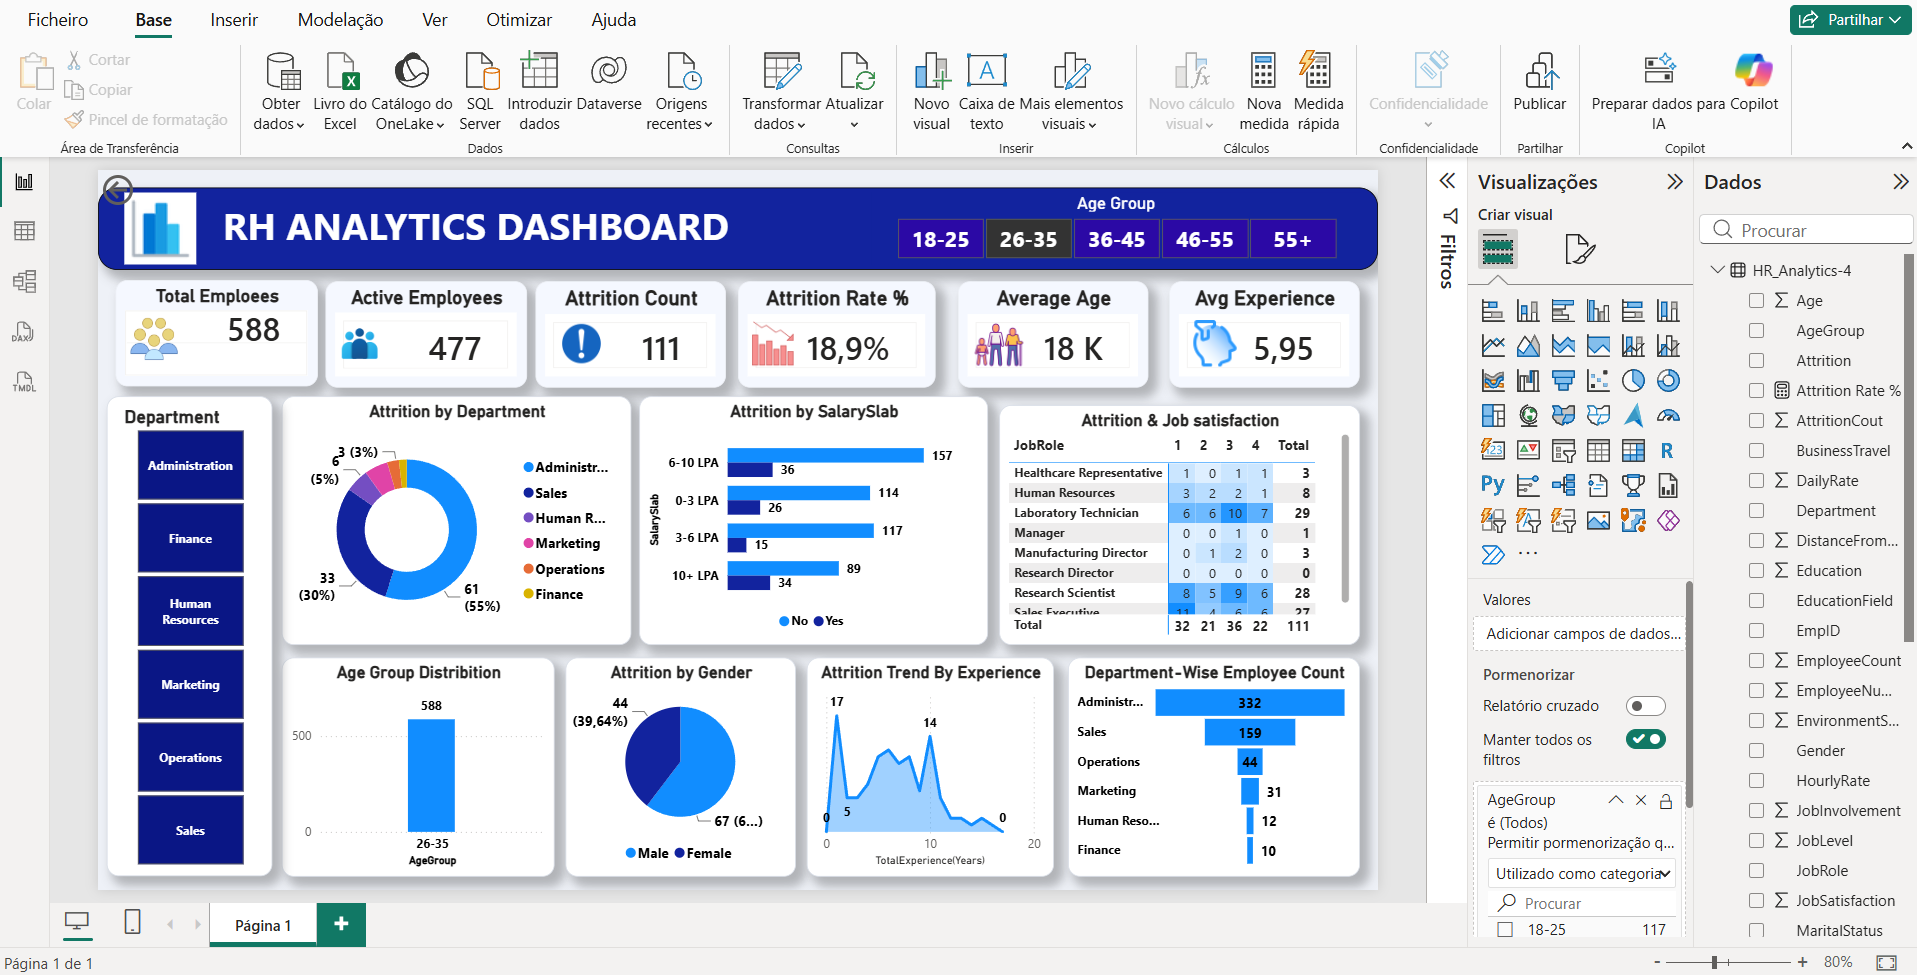

This screenshot's page, from the dashboard's own definition file:
{"tool":"powerbi","page":{"name":"Página 1","canvas":[1280,720],"ordinal":0},"visuals":[{"type":"textbox","box":[0,18.1,1280,82],"z":0},{"type":"cardVisual","title":"Total  Emploees","fields":{"Data":["CountNonNull(HR_Analytics-4.EmpID)"]},"box":[18.1,111,201.5,106.2],"z":1000},{"type":"cardVisual","title":"Active  Employees","fields":{"Data":["CountNonNull(HR_Analytics-4.EmployeeCount)"]},"box":[228,111,201.5,106.2],"z":2000},{"type":"cardVisual","title":"Attrition Count","fields":{"Data":["Sum(HR_Analytics-4.AttritionCout)"]},"box":[437.9,111,190.6,106.2],"z":3000},{"type":"cardVisual","title":"Attrition Rate %","fields":{"Data":["HR_Analytics-4.Attrition Rate %"]},"box":[640.6,111,197.9,106.2],"z":4000},{"type":"cardVisual","title":"Average Age","fields":{"Data":["Sum(HR_Analytics-4.Age)"]},"box":[860.2,111,190.6,106.2],"z":5000},{"type":"cardVisual","title":"Avg Experience","fields":{"Data":["Avg(HR_Analytics-4.YearsatCompany)"]},"box":[1071.3,111,190.6,106.2],"z":6000},{"type":"image","box":[36.2,149.6,37.4,47.1],"z":7000},{"type":"image","box":[241.3,149.6,41,47.1],"z":8000},{"type":"image","box":[456,149.6,54.3,47.1],"z":9000},{"type":"image","box":[651.5,149.6,47.1,47.1],"z":10000},{"type":"image","box":[874.7,149.6,51.9,49.5],"z":11000},{"type":"image","box":[1084.6,149.6,63.9,49.5],"z":12000},{"type":"image","box":[18.1,22.9,89.3,72.4],"z":13000},{"type":"donutChart","title":" Attrition by Department","fields":{"Category":["HR_Analytics-4.Department"],"Y":["Sum(HR_Analytics-4.AttritionCout)"]},"box":[183.4,226.8,349.9,248.5],"z":14000},{"type":"clusteredBarChart","title":"Attrition by SalarySlab","fields":{"Category":["HR_Analytics-4.SalarySlab"],"Y":["CountNonNull(HR_Analytics-4.EmpID)"],"Series":["HR_Analytics-4.Attrition"]},"box":[541.7,226.8,348.7,248.5],"z":15000},{"type":"pivotTable","title":"Attrition & Job satisfaction","fields":{"Rows":["HR_Analytics-4.JobRole"],"Values":["Sum(HR_Analytics-4.AttritionCout)"],"Columns":["HR_Analytics-4.JobSatisfaction"]},"box":[901.2,235.3,360.7,240.1],"z":16000},{"type":"columnChart","title":"Age Group Distribition","fields":{"Category":["HR_Analytics-4.AgeGroup"],"Y":["Sum(HR_Analytics-4.EmployeeCount)"]},"box":[183.4,487.4,272.7,219.6],"z":17000},{"type":"pieChart","title":"Attrition by Gender","fields":{"Category":["HR_Analytics-4.Gender"],"Y":["Sum(HR_Analytics-4.AttritionCout)"]},"box":[468.1,487.4,230.4,219.6],"z":18000},{"type":"areaChart","title":"Attrition Trend By Experience","fields":{"Category":["HR_Analytics-4.TotalExperience(Years)"],"Y2":["Sum(HR_Analytics-4.AttritionCout)"]},"box":[708.2,487.4,247.3,219.6],"z":19000},{"type":"funnel","title":"Department-Wise Employee Count","fields":{"Category":["HR_Analytics-4.Department"],"Y":["CountNonNull(HR_Analytics-4.EmpID)"]},"box":[970,487.4,292,219.6],"z":20000},{"type":"slicer","fields":{"Values":["HR_Analytics-4.Department"]},"box":[8.4,226.8,165.3,480.2],"z":21000},{"type":"slicer","title":"Age Group","fields":{"Values":["HR_Analytics-4.AgeGroup"]},"box":[773.3,22.9,488.6,72.4],"z":21001}]}

Visuals, with their boxes on the page's 1280x720 design canvas (x1, y1, x2, y2). These are canvas units, not pixel positions in the 1917x975 screenshot, which may show the page scaled, cropped or inside an application window:
textbox: {"x1": 0, "y1": 18, "x2": 1280, "y2": 100}
"Total  Emploees" cardVisual: {"x1": 18, "y1": 111, "x2": 220, "y2": 217}
"Active  Employees" cardVisual: {"x1": 228, "y1": 111, "x2": 430, "y2": 217}
"Attrition Count" cardVisual: {"x1": 438, "y1": 111, "x2": 628, "y2": 217}
"Attrition Rate %" cardVisual: {"x1": 641, "y1": 111, "x2": 838, "y2": 217}
"Average Age" cardVisual: {"x1": 860, "y1": 111, "x2": 1051, "y2": 217}
"Avg Experience" cardVisual: {"x1": 1071, "y1": 111, "x2": 1262, "y2": 217}
image: {"x1": 36, "y1": 150, "x2": 74, "y2": 197}
image: {"x1": 241, "y1": 150, "x2": 282, "y2": 197}
image: {"x1": 456, "y1": 150, "x2": 510, "y2": 197}
image: {"x1": 652, "y1": 150, "x2": 699, "y2": 197}
image: {"x1": 875, "y1": 150, "x2": 927, "y2": 199}
image: {"x1": 1085, "y1": 150, "x2": 1148, "y2": 199}
image: {"x1": 18, "y1": 23, "x2": 107, "y2": 95}
" Attrition by Department" donutChart: {"x1": 183, "y1": 227, "x2": 533, "y2": 475}
"Attrition by SalarySlab" clusteredBarChart: {"x1": 542, "y1": 227, "x2": 890, "y2": 475}
"Attrition & Job satisfaction" pivotTable: {"x1": 901, "y1": 235, "x2": 1262, "y2": 475}
"Age Group Distribition" columnChart: {"x1": 183, "y1": 487, "x2": 456, "y2": 707}
"Attrition by Gender" pieChart: {"x1": 468, "y1": 487, "x2": 698, "y2": 707}
"Attrition Trend By Experience" areaChart: {"x1": 708, "y1": 487, "x2": 956, "y2": 707}
"Department-Wise Employee Count" funnel: {"x1": 970, "y1": 487, "x2": 1262, "y2": 707}
slicer - HR_Analytics-4.Department: {"x1": 8, "y1": 227, "x2": 174, "y2": 707}
"Age Group" slicer: {"x1": 773, "y1": 23, "x2": 1262, "y2": 95}
